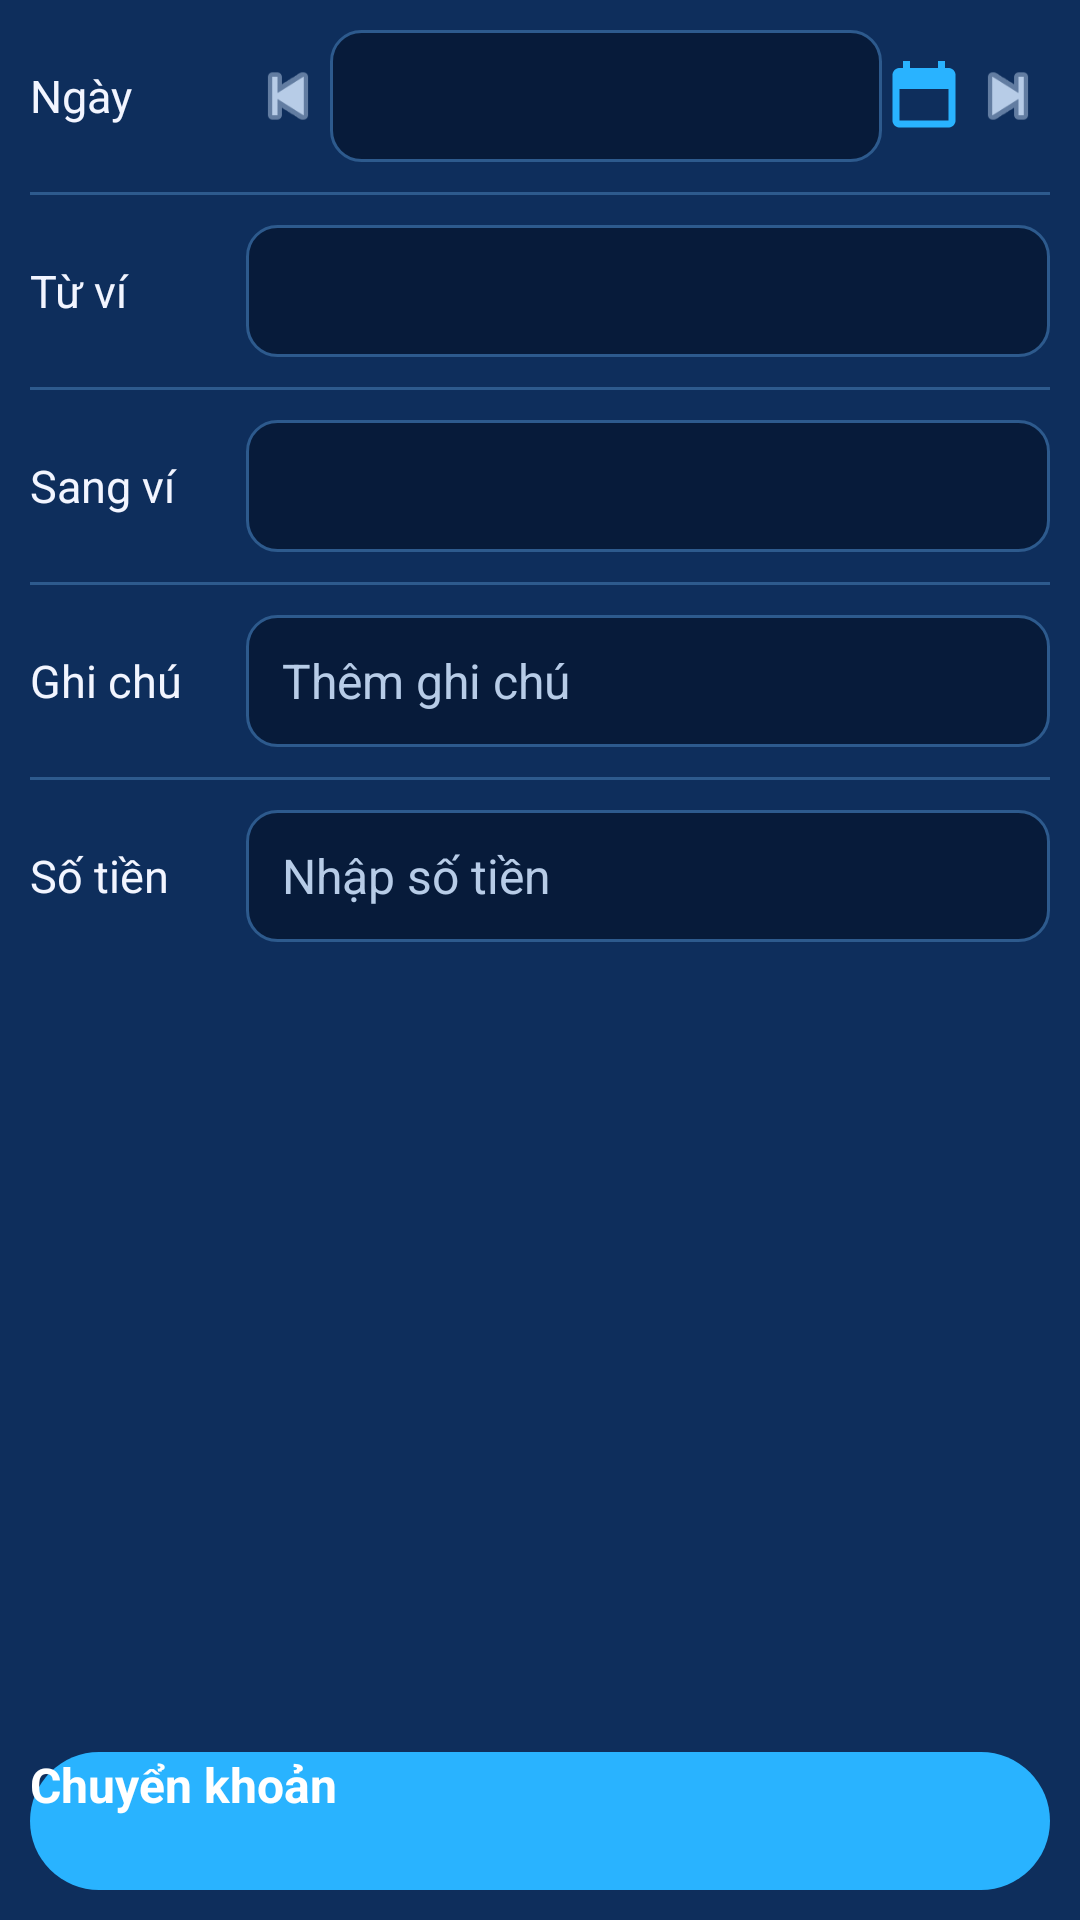

Icon click points for this 1080*1920 phone screenshot, format [x,y]:
calendar: [924,94]
next: [1008,96]
previous: [288,96]
